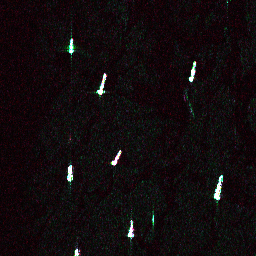ship: (211, 172, 225, 202), (94, 71, 109, 97), (108, 146, 123, 167), (187, 59, 198, 84), (126, 220, 136, 239), (67, 37, 76, 56), (65, 164, 74, 183), (72, 246, 80, 256)
